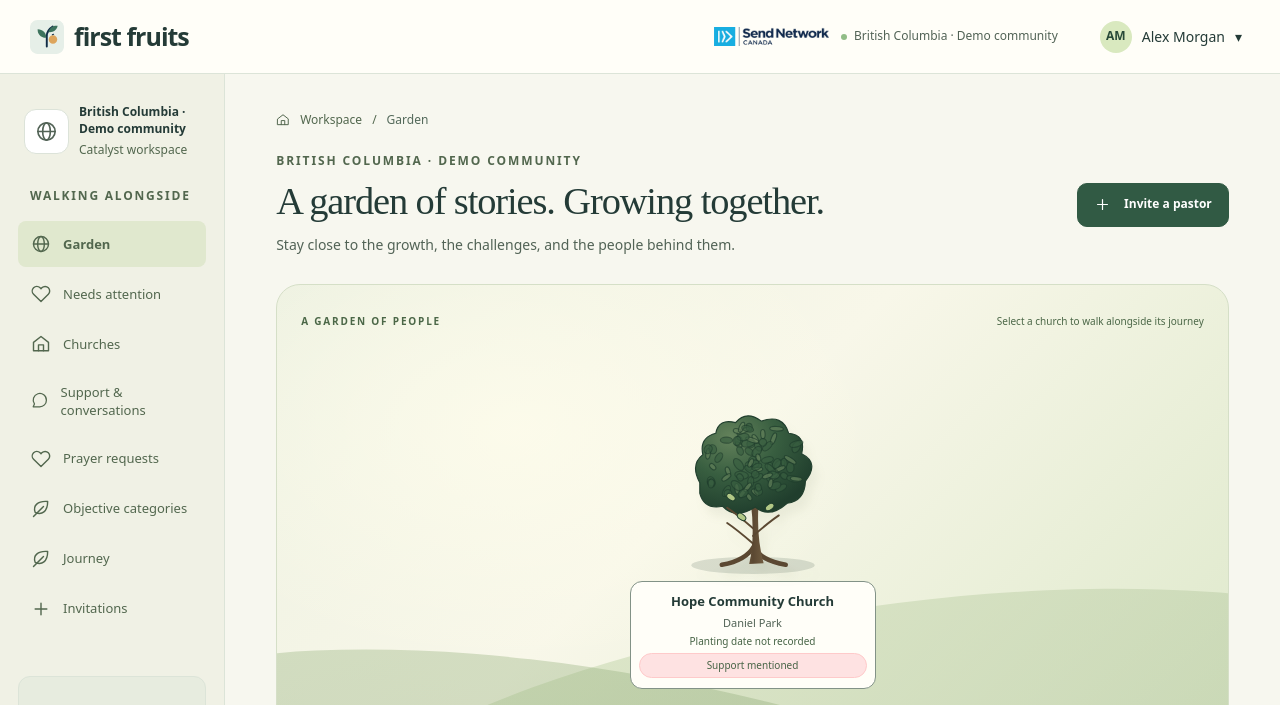
protects categories in use and keeps failed edits available
The width and height of the screenshot is (1280, 705).
Click the button "Objective categories" at coordinates (112, 509), box [18,486,206,532]
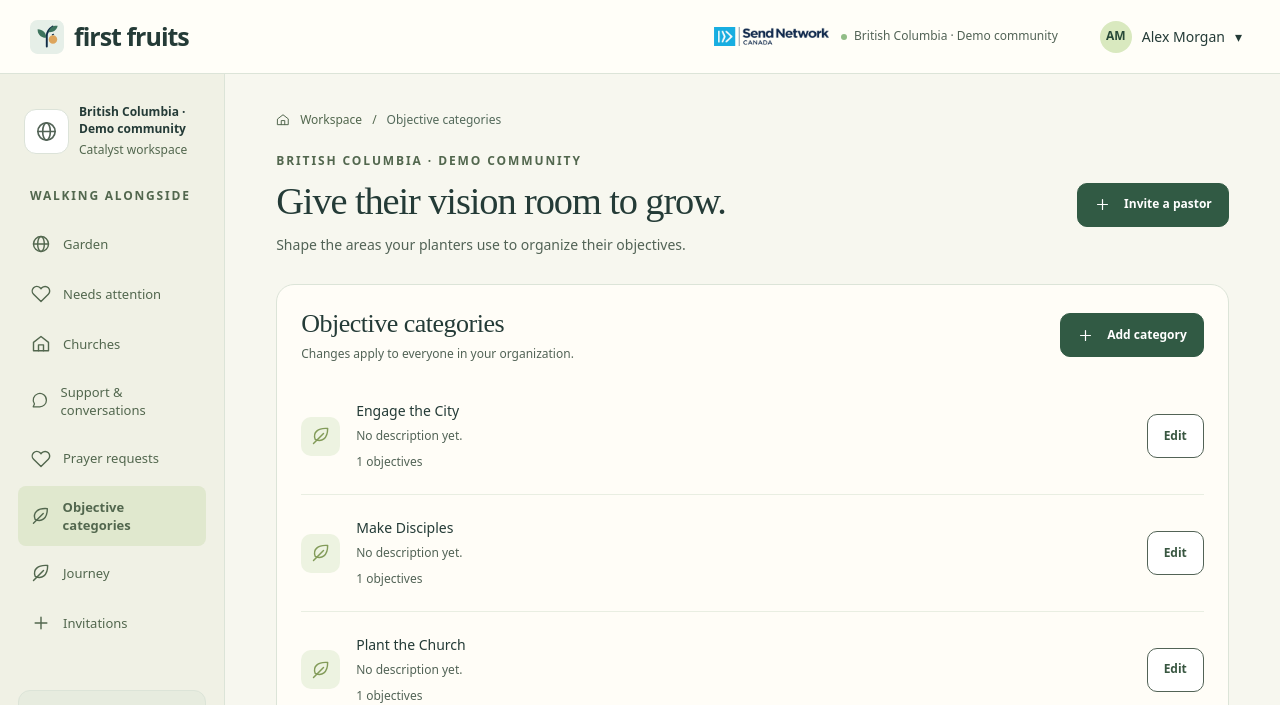
Click the button "Edit" in the row of "Engage the City" at coordinates (1175, 436), box [1147,414,1204,458]
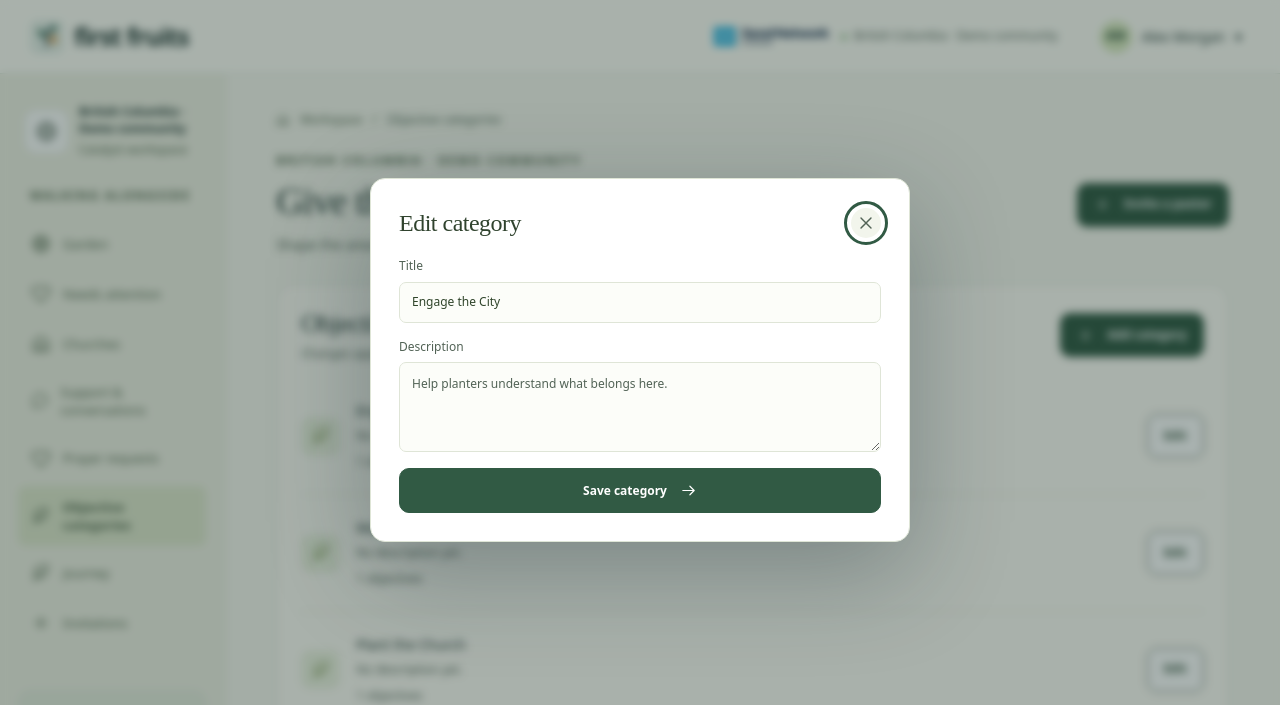
Replace the text in the field labelled "Title" with "A better category" at coordinates (640, 302), box [399,282,881,323]
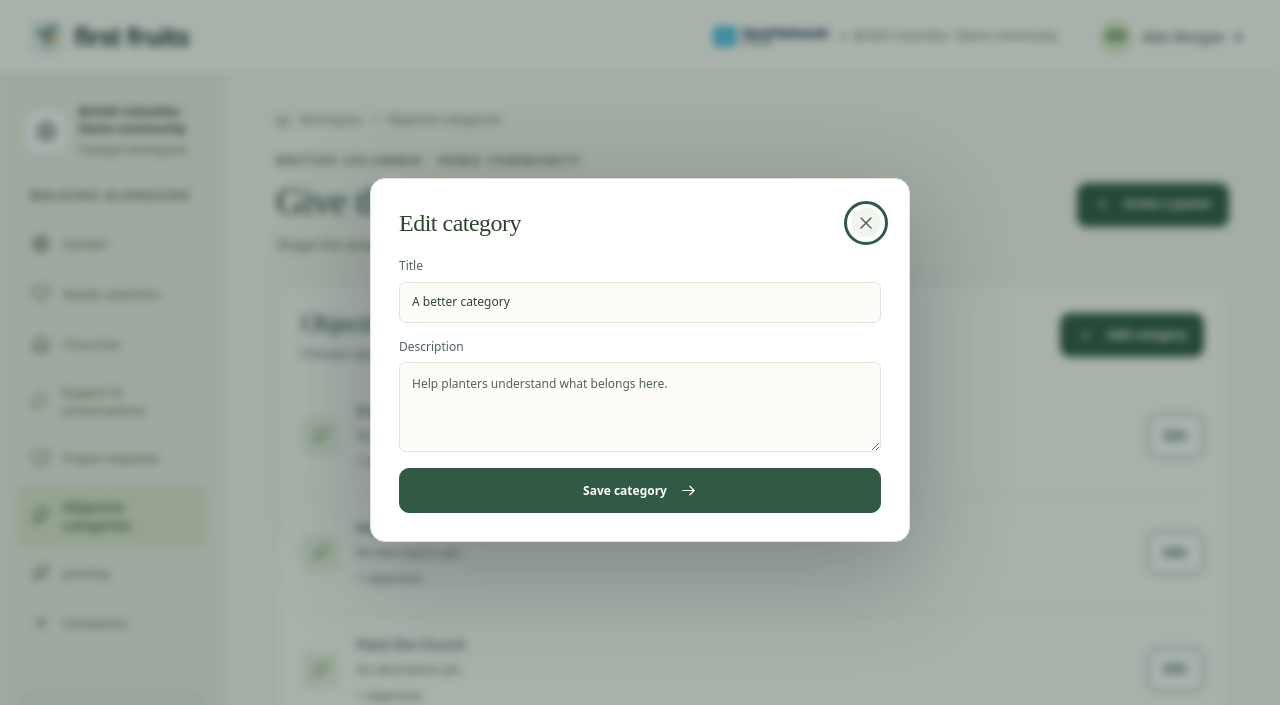
Submit the form "Save category", box [399,258,881,514]
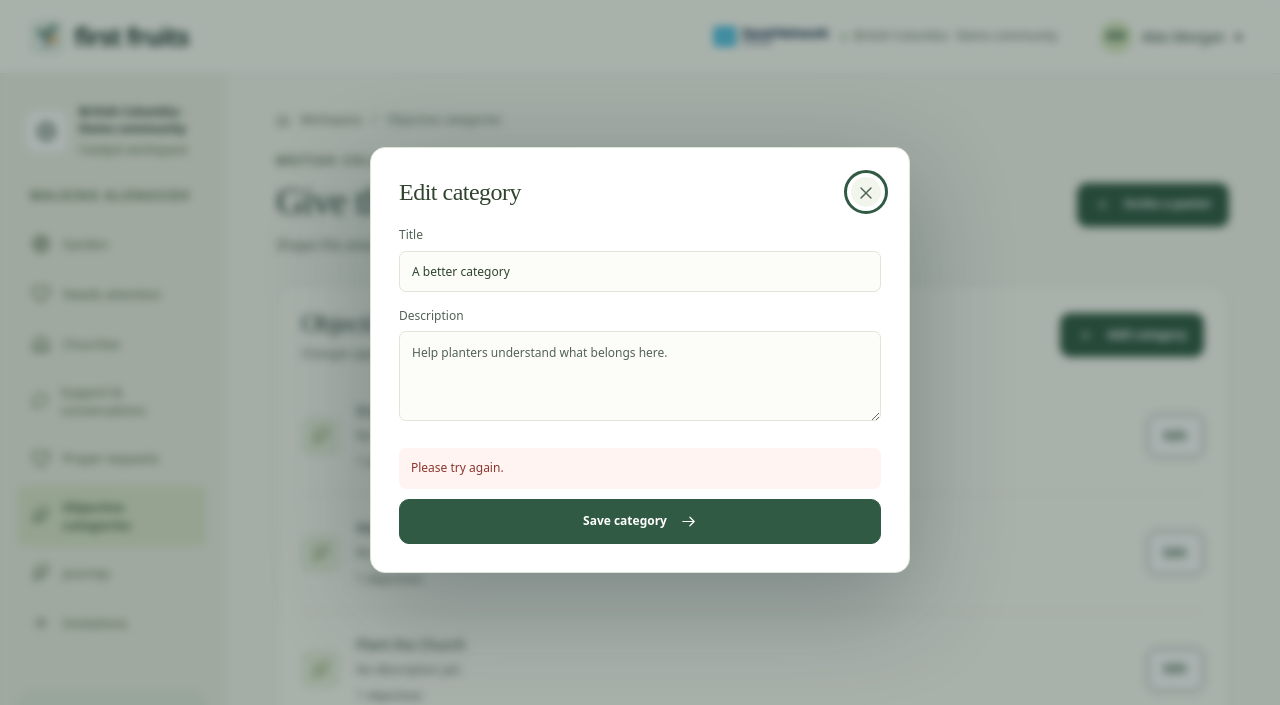
expect the message reads "Please try again.": met, box [411,459,504,476]
